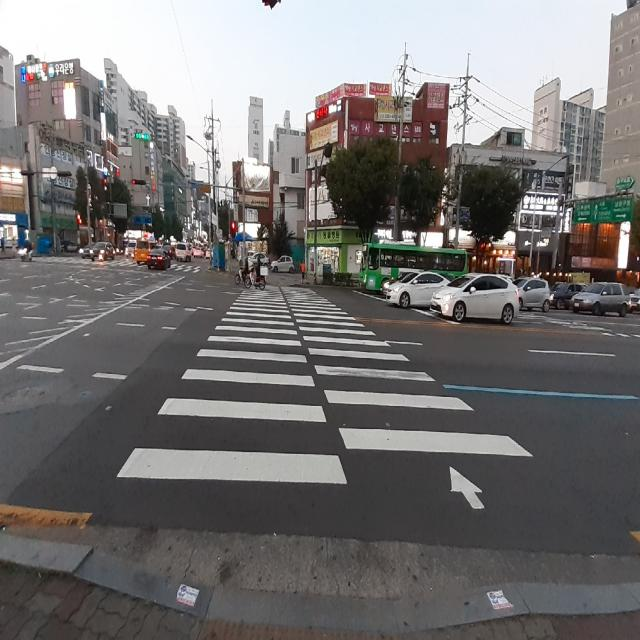빨간불: (231, 222, 235, 238)
횡단보도: (116, 286, 534, 509), (172, 264, 201, 275)
